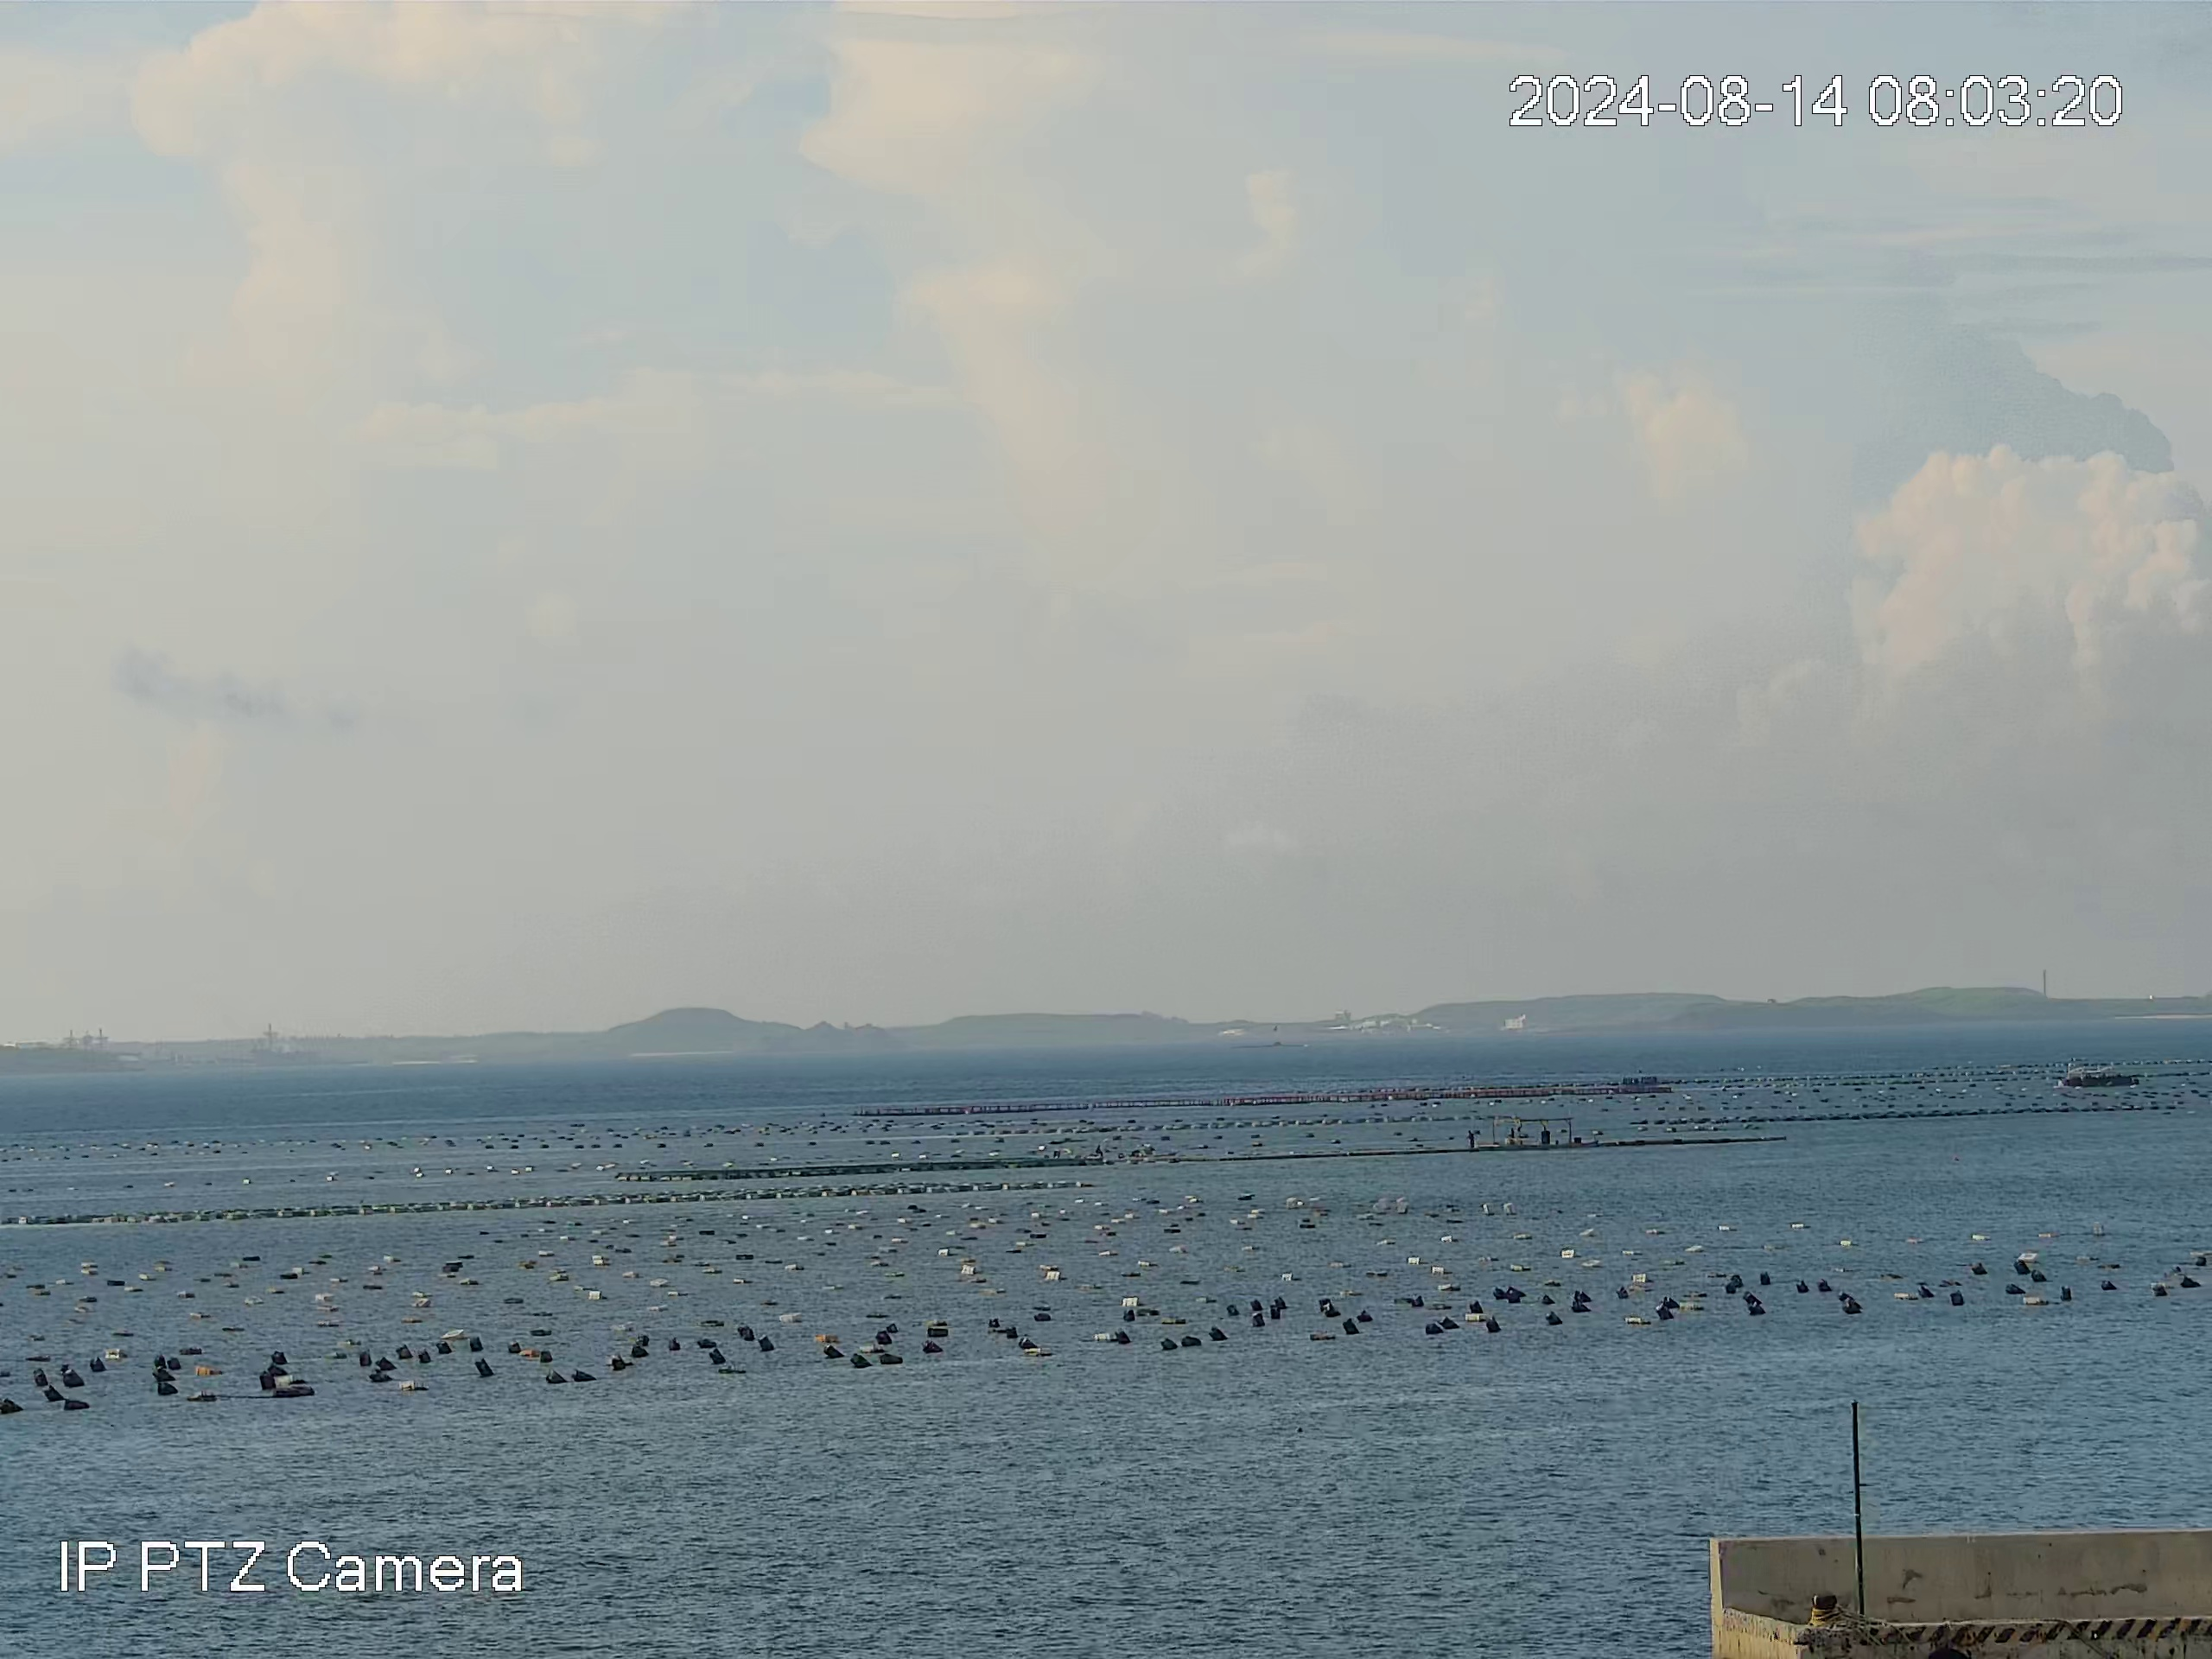boat: (1479, 1108, 1600, 1149), (2056, 1059, 2142, 1090)
